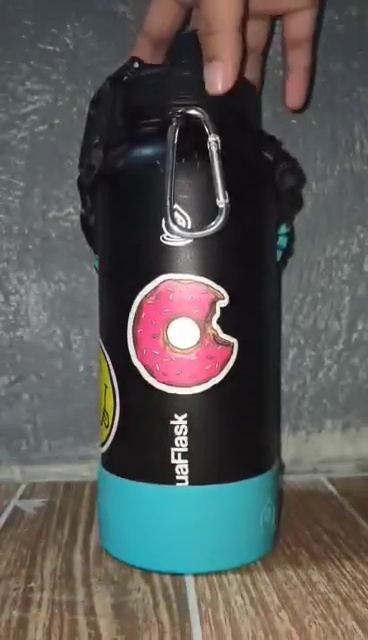hand: (137, 1, 320, 111)
tumbler: (77, 32, 306, 577)
